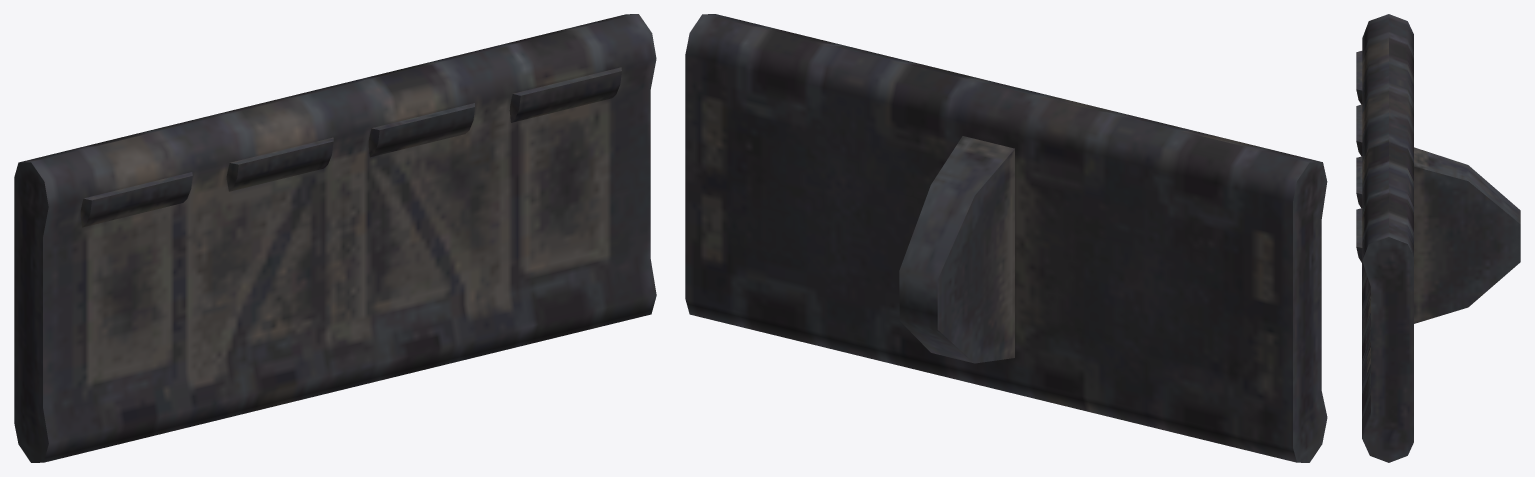
3 views of the same model, side by side, from view 1: azimuth 30°, elevation 25°; view 2: azimuth 150°, elevation 25°; view 3: azimuth 270°, elevation 25° (orthographic). The views are drawn at different scales.
Visible parts, largest first — view 1: set_0_group_0; view 2: set_0_group_0; view 3: set_0_group_0.
Boxes of the visible parts, x1,y1,x2,y2 form: set_0_group_0: [14, 14, 656, 462]; set_0_group_0: [685, 14, 1327, 462]; set_0_group_0: [1356, 14, 1520, 462].
Size of the model in its own units: 0.4497 by 0.2126 by 0.1402.
Materials: 1 (1 with a texture image).
